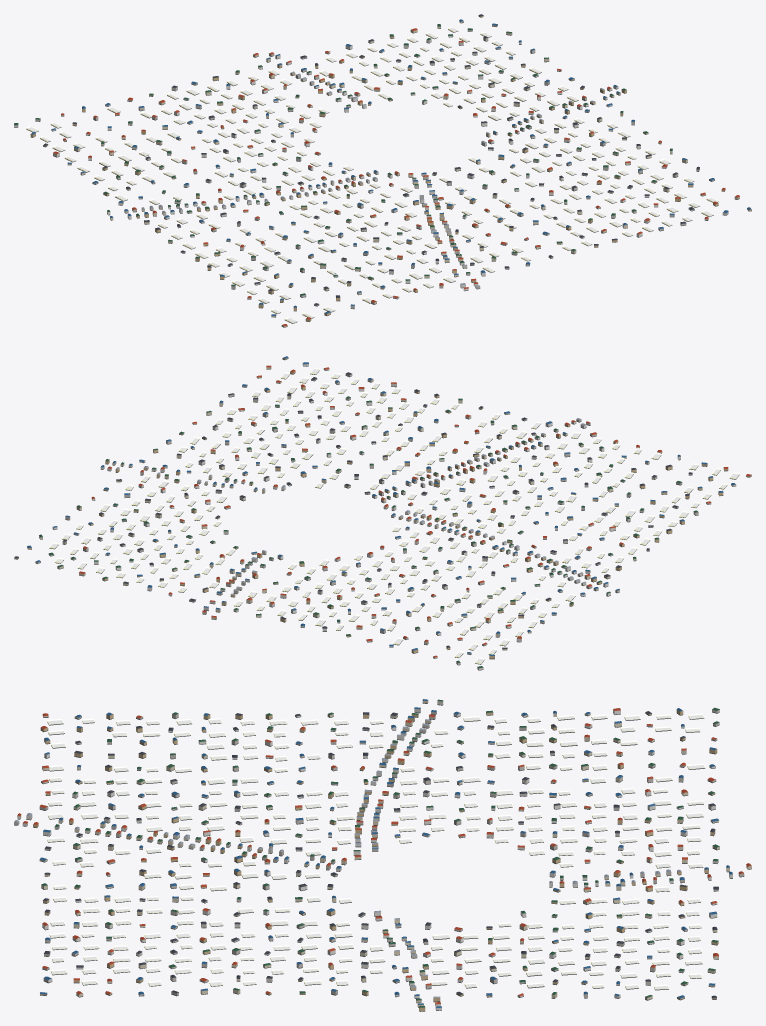
File: buildings_T_W05_N02.glb
3 renders of one model, top to bottom at view 1: azimuth 30°, elevation 25°; view 2: azimuth 150°, elevation 25°; view 3: azimuth 270°, elevation 25°, orthographic. The views are drawn at different scales.
Visible parts, largest first — view 1: T_W05_N02_roofs_agri_greenhouse_arch, T_W05_N02_slope_seating_foundations, T_W05_N02_walls_wall_modern_warm_white, T_W05_N02_walls_wall_french_ochre_villa, T_W05_N02_walls_wall_dalat_cream_stucco, T_W05_N02_walls_wall_pastel_sand_gray, T_W05_N02_roofs_roof_highland_blue_gable, T_W05_N02_roofs_roof_terracotta_gable, T_W05_N02_roofs_roof_pine_green_hip, T_W05_N02_roofs_roof_slate_French_villa_hip; view 2: T_W05_N02_roofs_agri_greenhouse_arch, T_W05_N02_slope_seating_foundations, T_W05_N02_walls_wall_modern_warm_white, T_W05_N02_walls_wall_french_ochre_villa, T_W05_N02_walls_wall_dalat_cream_stucco, T_W05_N02_walls_wall_pastel_sand_gray, T_W05_N02_roofs_roof_highland_blue_gable, T_W05_N02_roofs_roof_terracotta_gable, T_W05_N02_roofs_roof_pine_green_hip, T_W05_N02_roofs_roof_slate_French_villa_hip; view 3: T_W05_N02_roofs_agri_greenhouse_arch, T_W05_N02_slope_seating_foundations, T_W05_N02_walls_wall_modern_warm_white, T_W05_N02_walls_wall_french_ochre_villa, T_W05_N02_walls_wall_dalat_cream_stucco, T_W05_N02_walls_wall_pastel_sand_gray, T_W05_N02_roofs_roof_highland_blue_gable, T_W05_N02_roofs_roof_terracotta_gable, T_W05_N02_roofs_roof_pine_green_hip, T_W05_N02_roofs_roof_slate_French_villa_hip, T_W05_N02_roofs_roof_zinc_silver_gable.
Part boxes in pixels (<box>): T_W05_N02_roofs_agri_greenhouse_arch: <box>26,26,718,323</box>; T_W05_N02_slope_seating_foundations: <box>14,16,751,327</box>; T_W05_N02_walls_wall_modern_warm_white: <box>14,35,728,308</box>; T_W05_N02_walls_wall_french_ochre_villa: <box>30,15,751,321</box>; T_W05_N02_walls_wall_dalat_cream_stucco: <box>67,21,739,327</box>; T_W05_N02_walls_wall_pastel_sand_gray: <box>35,37,714,306</box>; T_W05_N02_roofs_roof_highland_blue_gable: <box>31,19,751,315</box>; T_W05_N02_roofs_roof_terracotta_gable: <box>53,28,739,326</box>; T_W05_N02_roofs_roof_pine_green_hip: <box>14,24,672,295</box>; T_W05_N02_roofs_roof_slate_French_villa_hip: <box>43,14,699,305</box>; T_W05_N02_roofs_agri_greenhouse_arch: <box>49,367,739,663</box>; T_W05_N02_slope_seating_foundations: <box>14,358,751,670</box>; T_W05_N02_walls_wall_modern_warm_white: <box>52,363,680,670</box>; T_W05_N02_walls_wall_french_ochre_villa: <box>14,357,728,658</box>; T_W05_N02_walls_wall_dalat_cream_stucco: <box>35,367,751,637</box>; T_W05_N02_walls_wall_pastel_sand_gray: <box>62,368,711,664</box>; T_W05_N02_roofs_roof_highland_blue_gable: <box>27,356,735,655</box>; T_W05_N02_roofs_roof_terracotta_gable: <box>79,365,751,657</box>; T_W05_N02_roofs_roof_pine_green_hip: <box>39,396,698,668</box>; T_W05_N02_roofs_roof_slate_French_villa_hip: <box>14,372,692,649</box>; T_W05_N02_roofs_agri_greenhouse_arch: <box>47,713,705,989</box>; T_W05_N02_slope_seating_foundations: <box>14,703,751,1011</box>; T_W05_N02_walls_wall_modern_warm_white: <box>17,701,732,1010</box>; T_W05_N02_walls_wall_french_ochre_villa: <box>33,709,718,1011</box>; T_W05_N02_walls_wall_dalat_cream_stucco: <box>39,700,751,1007</box>; T_W05_N02_walls_wall_pastel_sand_gray: <box>14,711,744,997</box>; T_W05_N02_roofs_roof_highland_blue_gable: <box>39,699,732,1008</box>; T_W05_N02_roofs_roof_terracotta_gable: <box>17,708,751,1004</box>; T_W05_N02_roofs_roof_pine_green_hip: <box>41,699,719,1007</box>; T_W05_N02_roofs_roof_slate_French_villa_hip: <box>43,711,718,998</box>; T_W05_N02_roofs_roof_zinc_silver_gable: <box>14,719,681,998</box>.
Bounding box in the file's own units: 1913 × 32.6 × 1902.
